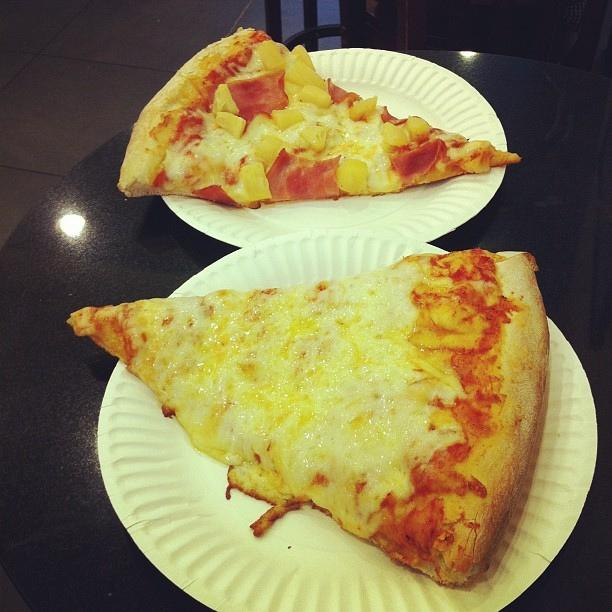pineapple: (240, 162, 273, 202), (286, 60, 327, 91), (336, 160, 368, 195), (256, 40, 287, 72), (214, 111, 246, 139), (212, 84, 239, 117), (298, 86, 332, 108), (272, 108, 304, 131), (254, 136, 282, 162), (298, 127, 326, 153), (350, 96, 378, 122), (290, 44, 316, 72), (406, 116, 430, 142), (383, 122, 409, 146), (284, 80, 304, 107)
